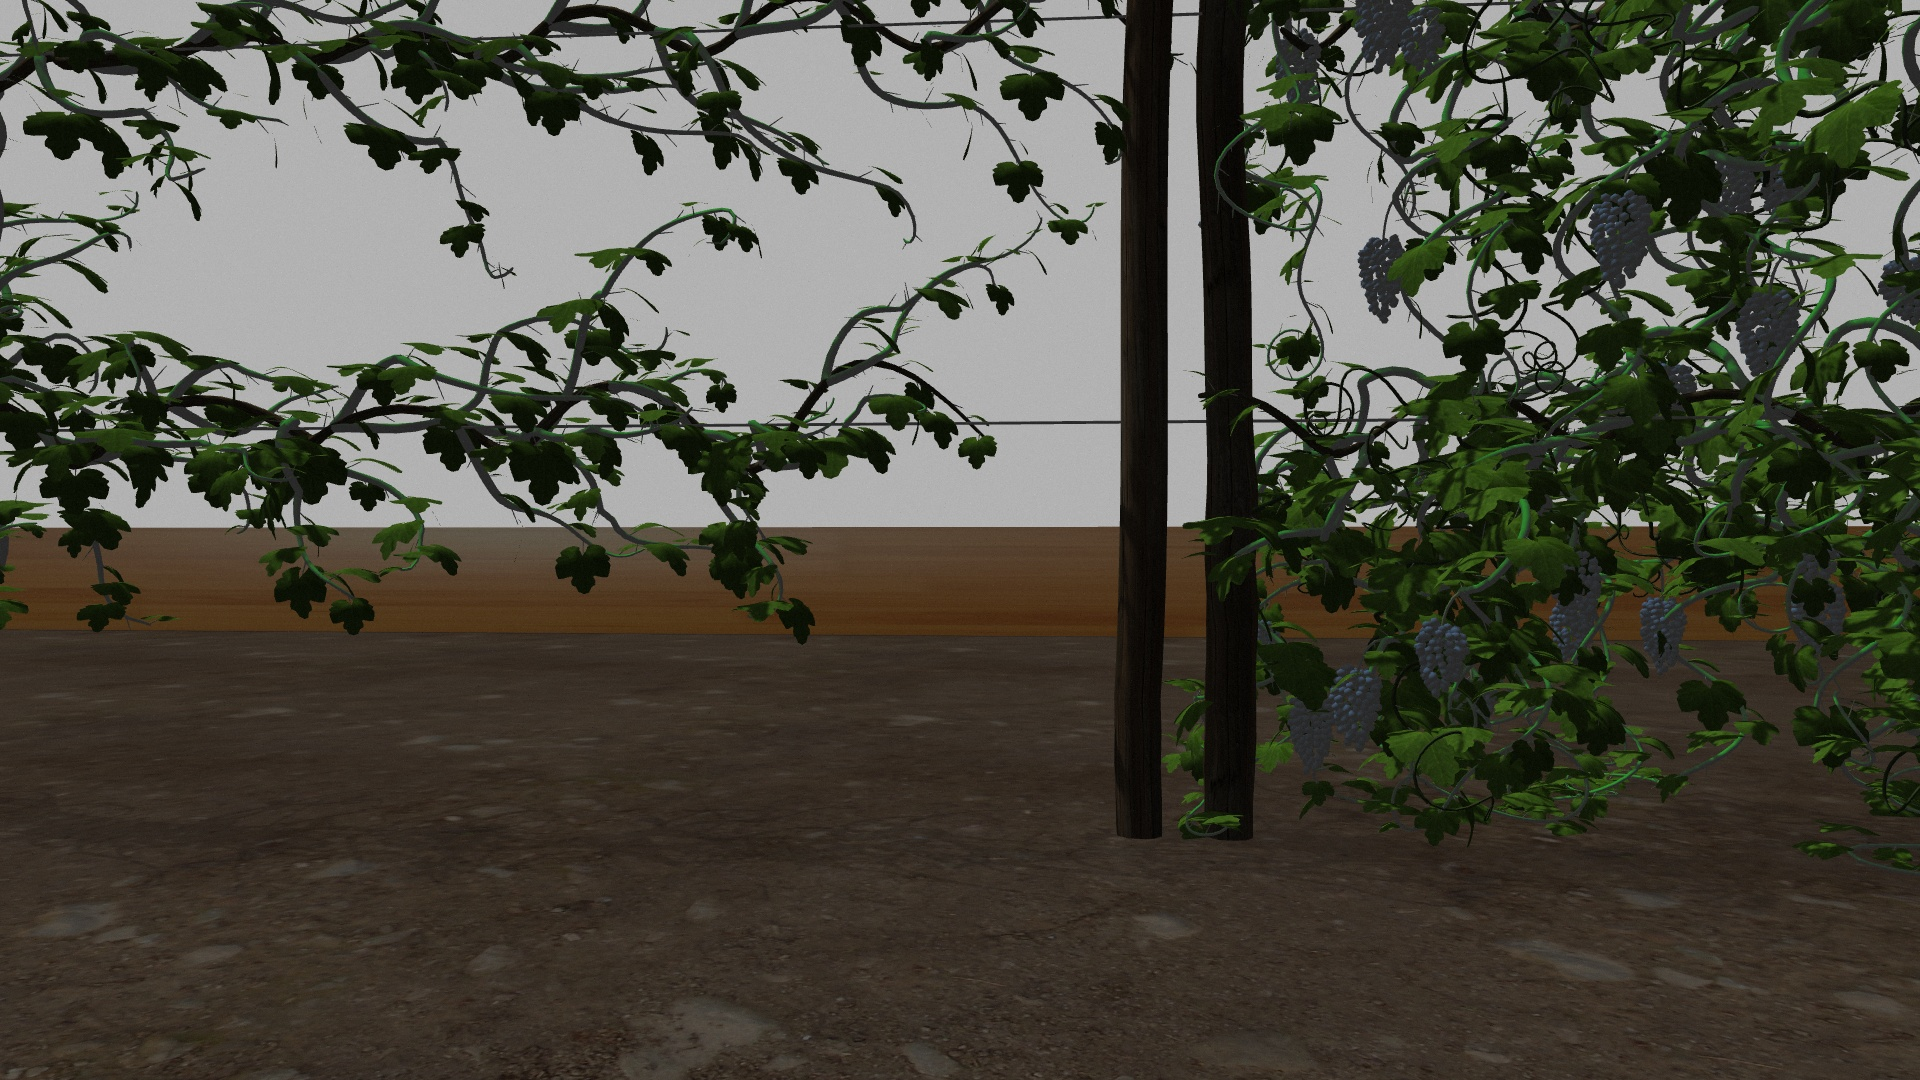grape: (1589, 189, 1654, 289), (1734, 284, 1804, 376), (1411, 618, 1472, 699), (1332, 665, 1383, 752), (1358, 236, 1408, 324), (1353, 5, 1410, 74), (1639, 599, 1689, 674), (1286, 699, 1335, 769), (1278, 28, 1320, 103), (1548, 605, 1594, 662), (1404, 11, 1449, 69), (1716, 156, 1756, 218), (1569, 549, 1602, 609)
